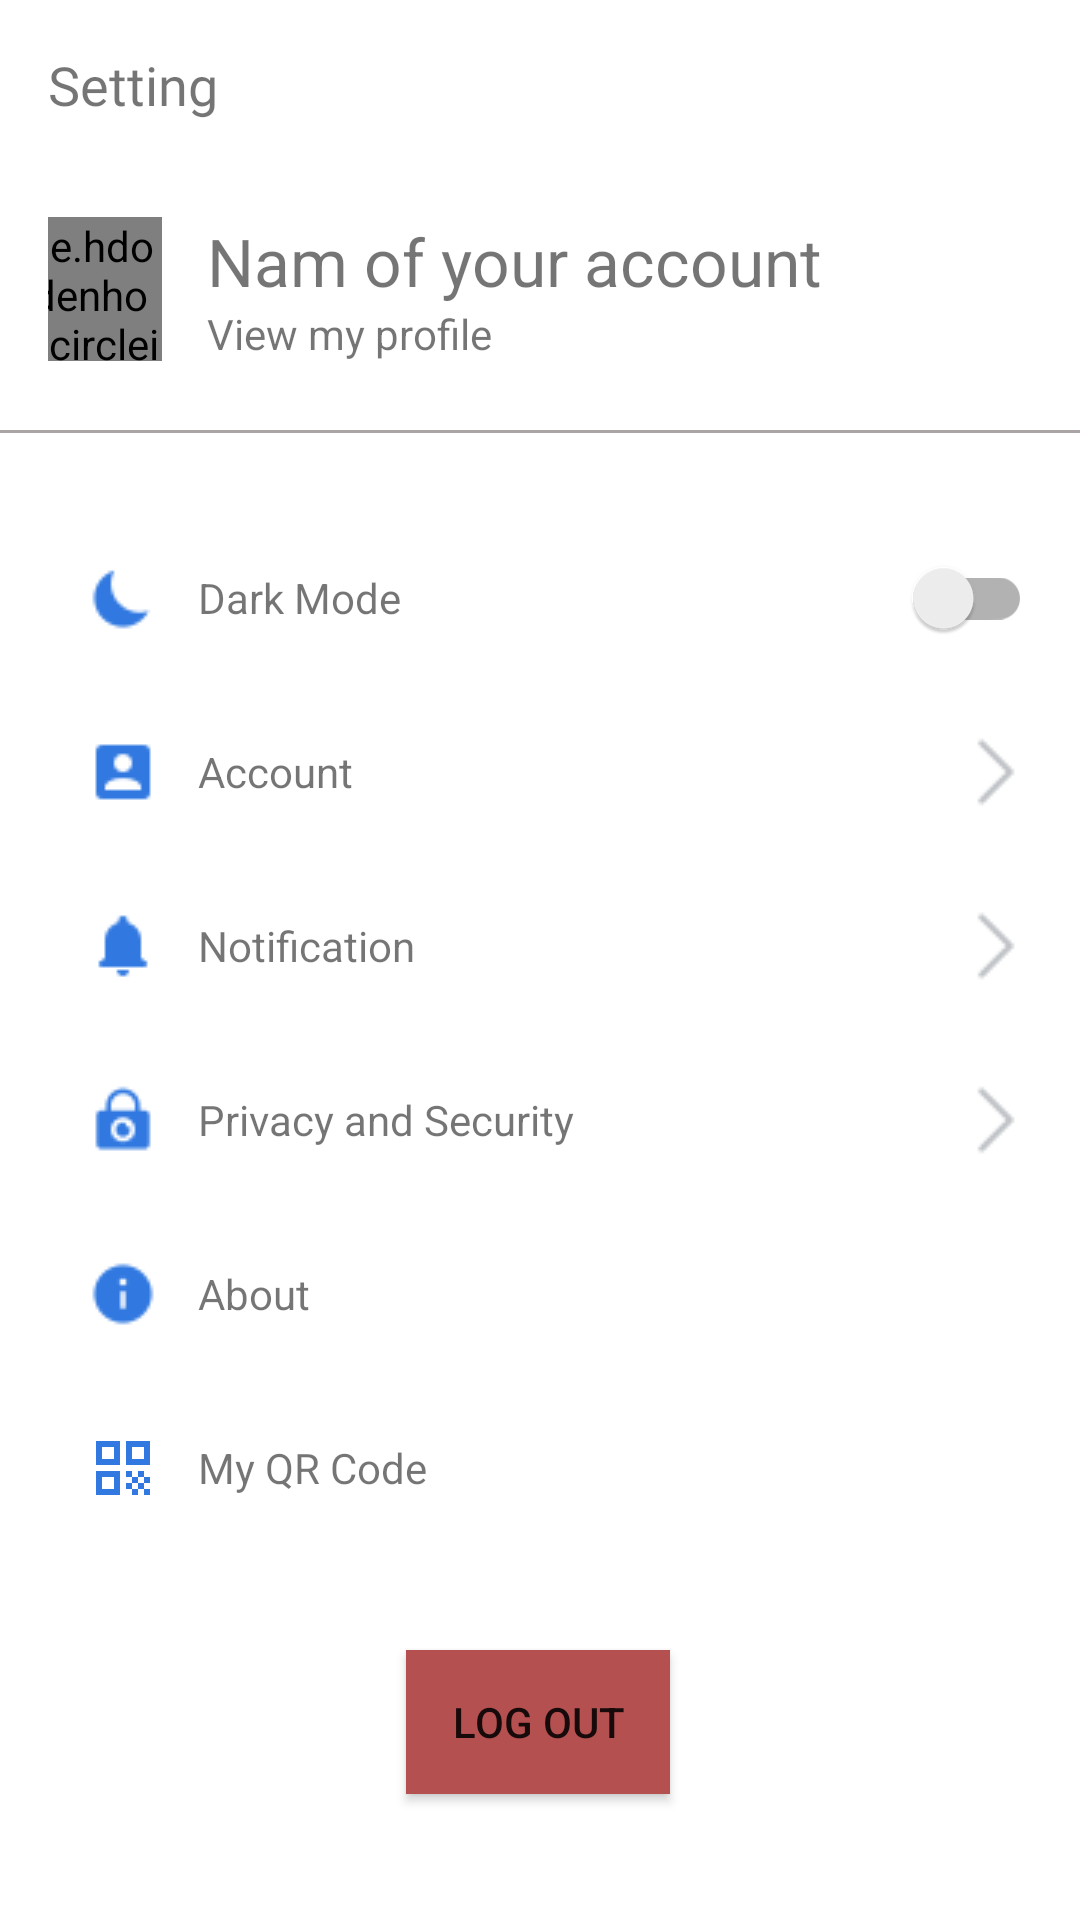

Named icons in this screenshot (1080*1920) and their centers, point (x, y):
forward: point (995, 772), point (995, 946), point (995, 1120)
info: point (123, 1294)
moon symbol: point (121, 599)
